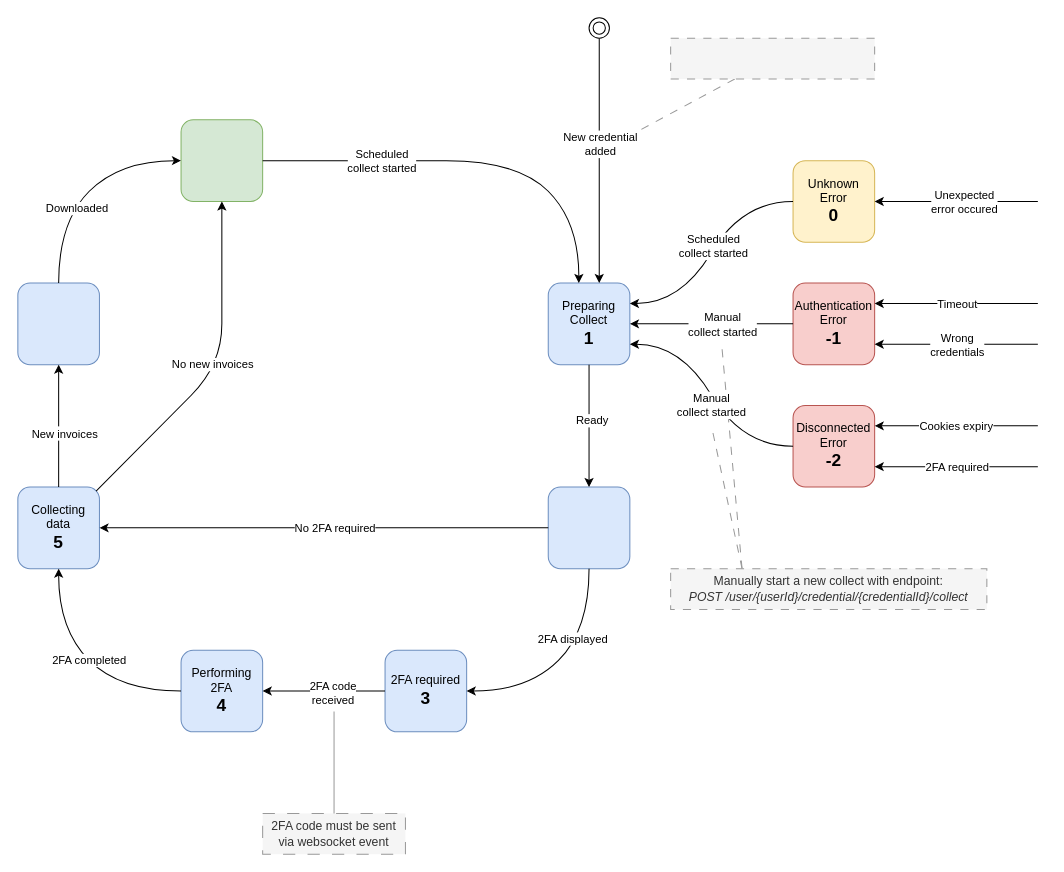
Some shapes in this 1064 by 872 pixel diagram are drawn without their labels. The centre of each missing label's shape, as x and y in pixels:
"Authentication in progress 2" belongs at (x=588, y=527).
"Credential added with endpoint: POST /user/{userId}/credential" belongs at (x=772, y=58).
"Done 7" belongs at (x=221, y=160).
"Download invoices 6" belongs at (x=58, y=323).
